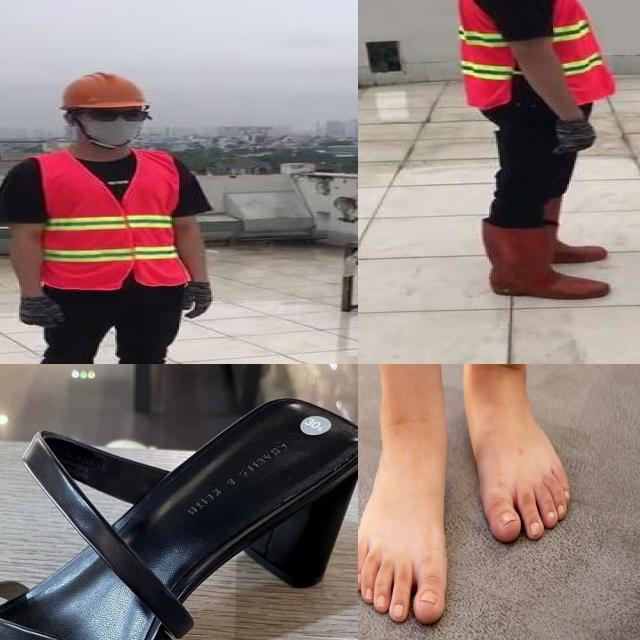Sandals: (0, 364, 358, 640), (358, 376, 446, 620), (463, 364, 570, 537)
boots: (478, 218, 610, 301), (494, 193, 608, 264)
face_mask: (78, 104, 145, 146)
glasses: (84, 104, 150, 124)
hand_glove: (549, 116, 601, 156), (12, 297, 67, 327), (179, 284, 218, 318)
head_helmet: (55, 69, 148, 110)
person: (0, 69, 210, 364), (448, 0, 627, 304)
vest: (32, 148, 190, 288), (457, 0, 615, 109)
